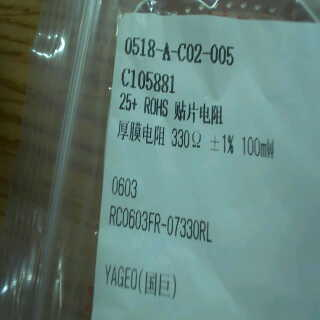330R: (169, 122, 202, 153)
